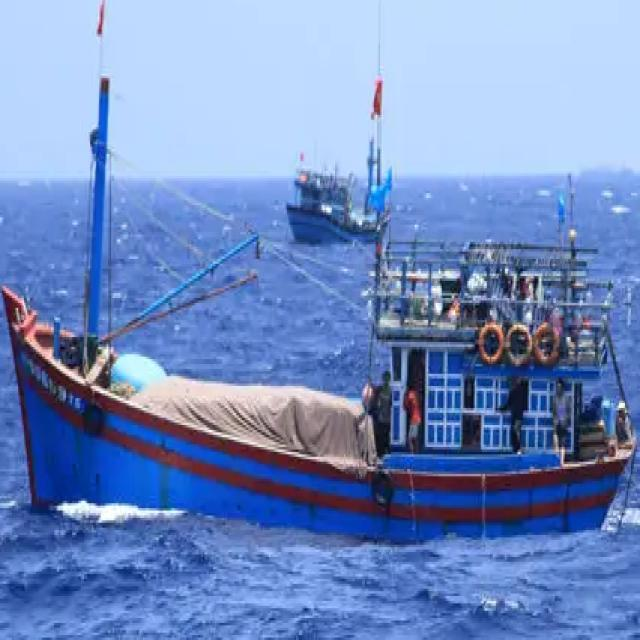fishing boat: (13, 77, 626, 547), (280, 70, 392, 235)
